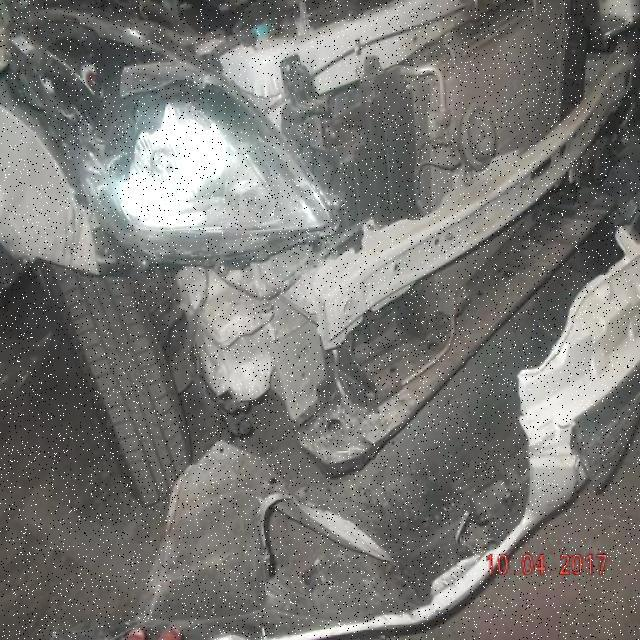car damage: (29, 24, 624, 620)
